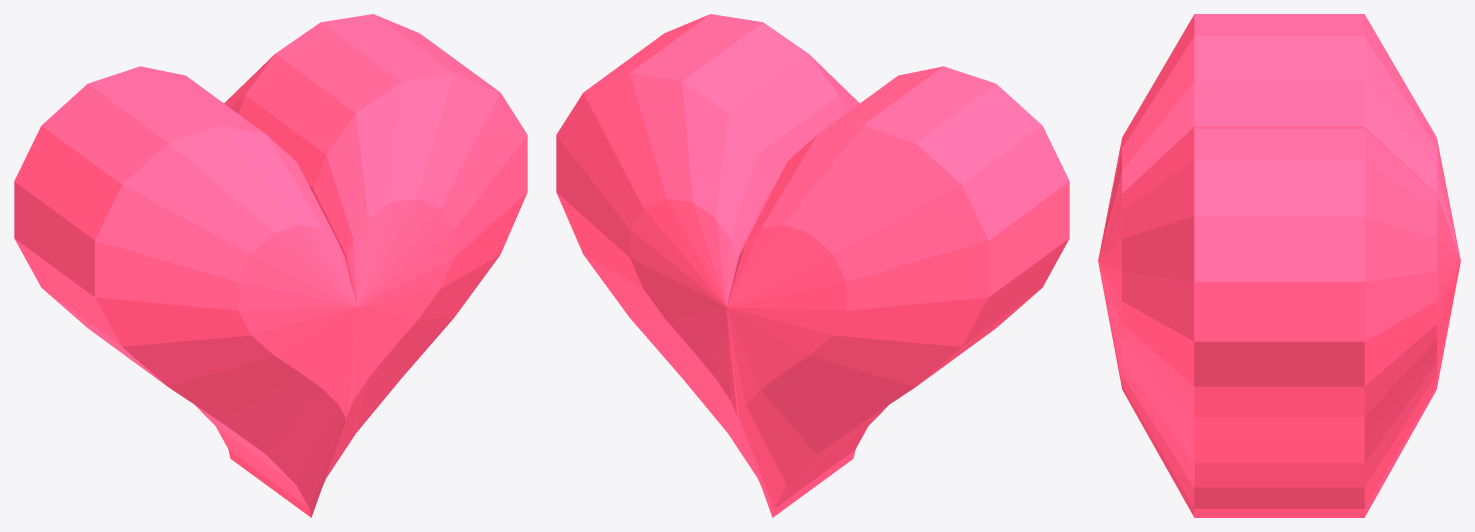
The model's file is gem_red.glb.
The picture shows the model from 3 angles, left to right: view 1: azimuth 30°, elevation 25°; view 2: azimuth 150°, elevation 25°; view 3: azimuth 270°, elevation 25°; orthographic projection. The views are drawn at different scales.
Size of the model in its own units: 0.9258 by 0.8476 by 0.64.
